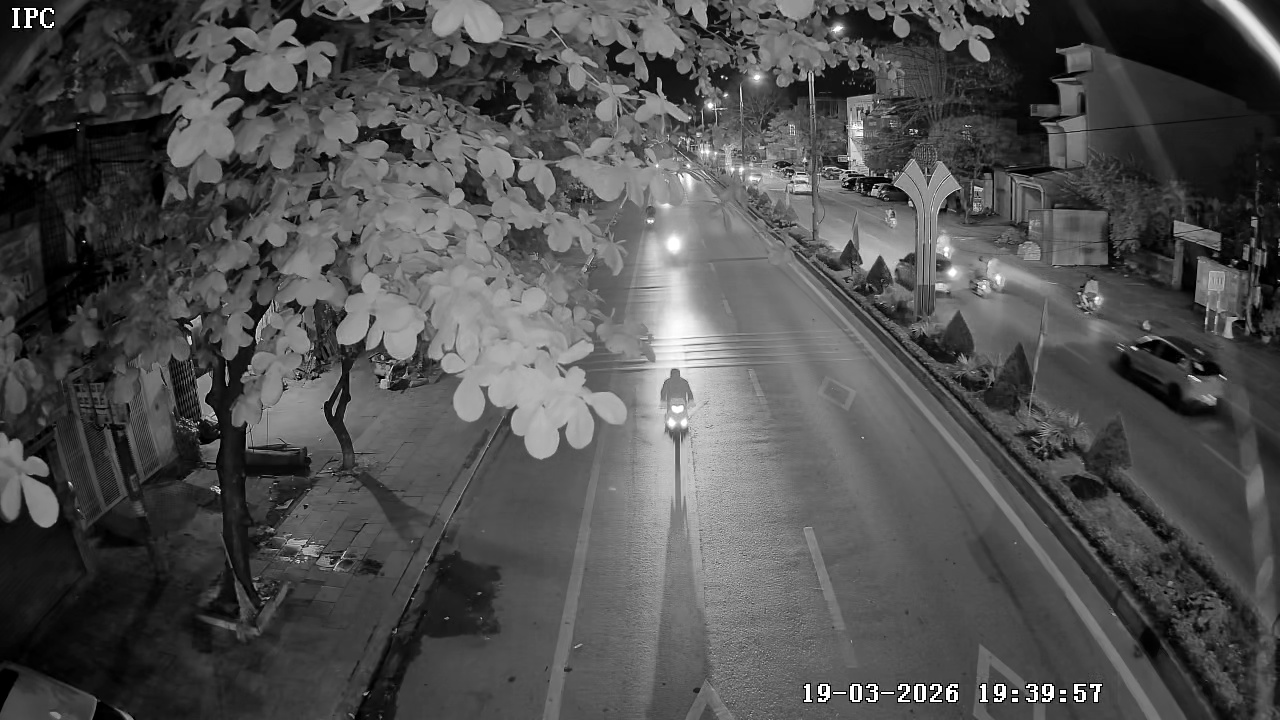car: (1109, 331, 1228, 416)
motorbike: (657, 365, 697, 446)
